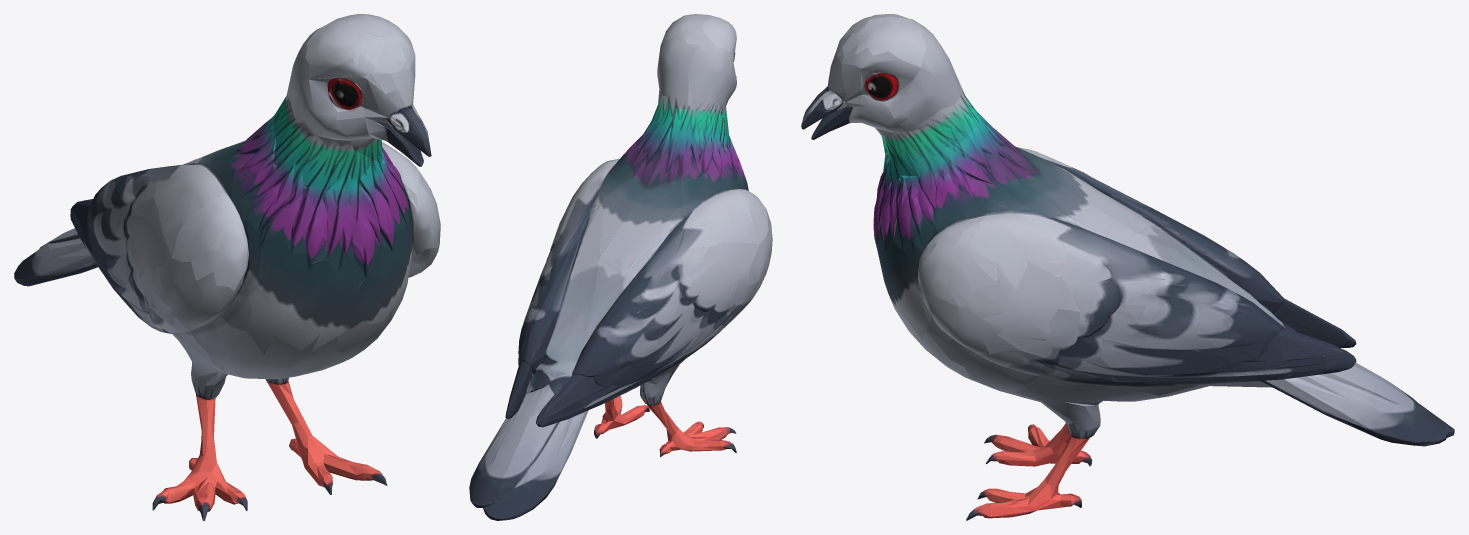
The model's file is pigeon.glb.
3 renders of one model, left to right at view 1: azimuth 30°, elevation 25°; view 2: azimuth 150°, elevation 25°; view 3: azimuth 270°, elevation 25°, orthographic. The views are drawn at different scales.
Size of the model in its own units: 0.7881 by 1.51 by 1.9.
Materials: 1 (1 with a texture image).
